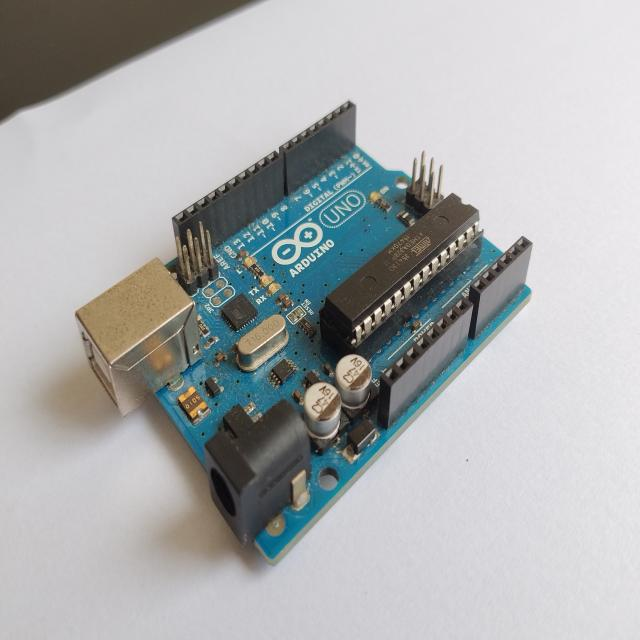arduino: (76, 98, 540, 570)
